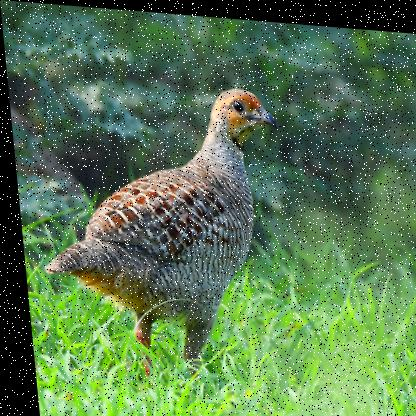Burung: (23, 70, 293, 373)
